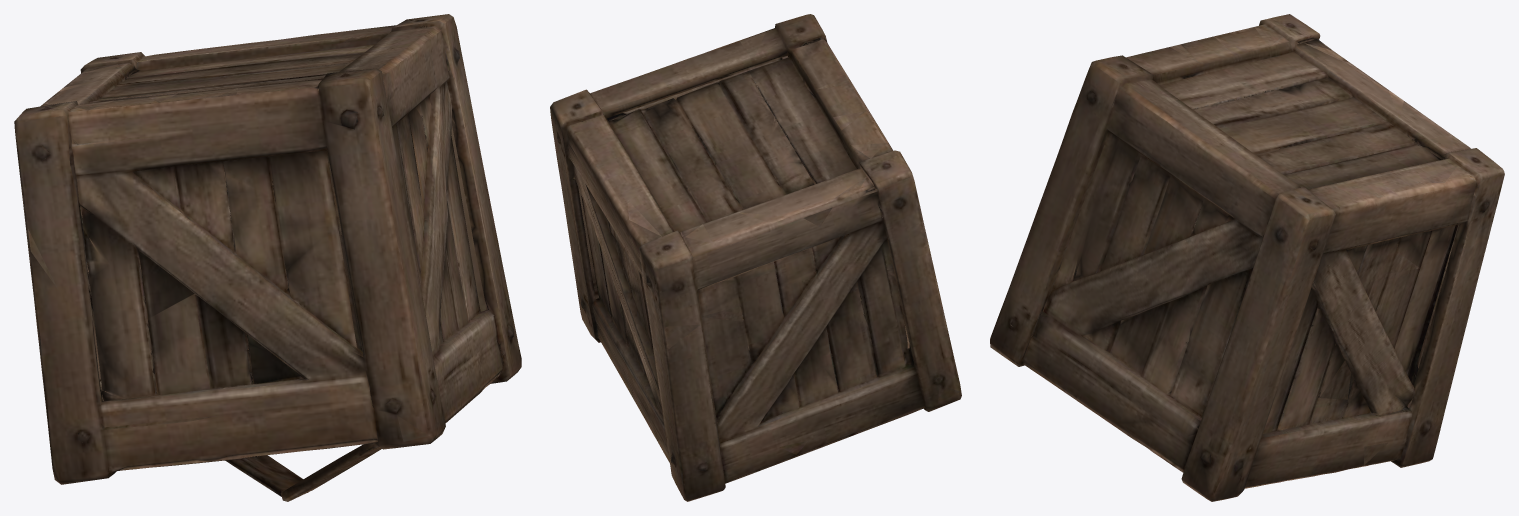
The picture shows the model from 3 angles, left to right: view 1: azimuth 30°, elevation 25°; view 2: azimuth 150°, elevation 25°; view 3: azimuth 270°, elevation 25°; orthographic projection. The views are drawn at different scales.
Parts seen in each view (by area): view 1: braced_wood_crate_baked; view 2: braced_wood_crate_baked; view 3: braced_wood_crate_baked.
Boxes of the visible parts, x1,y1,x2,y2 form: braced_wood_crate_baked: (14, 14, 521, 501); braced_wood_crate_baked: (550, 14, 961, 501); braced_wood_crate_baked: (990, 14, 1504, 501).
Size of the model in its own units: 0.9185 by 0.8715 by 0.9794.
1 material, 1 textured.
